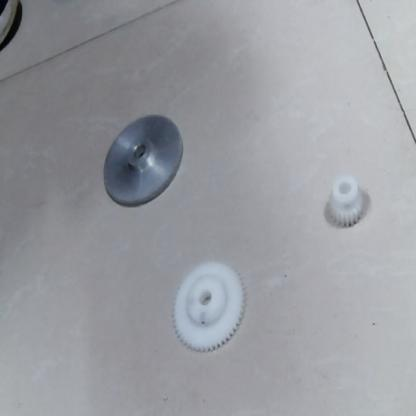FOD: (96, 110, 188, 213), (169, 255, 253, 362), (322, 172, 369, 232)
